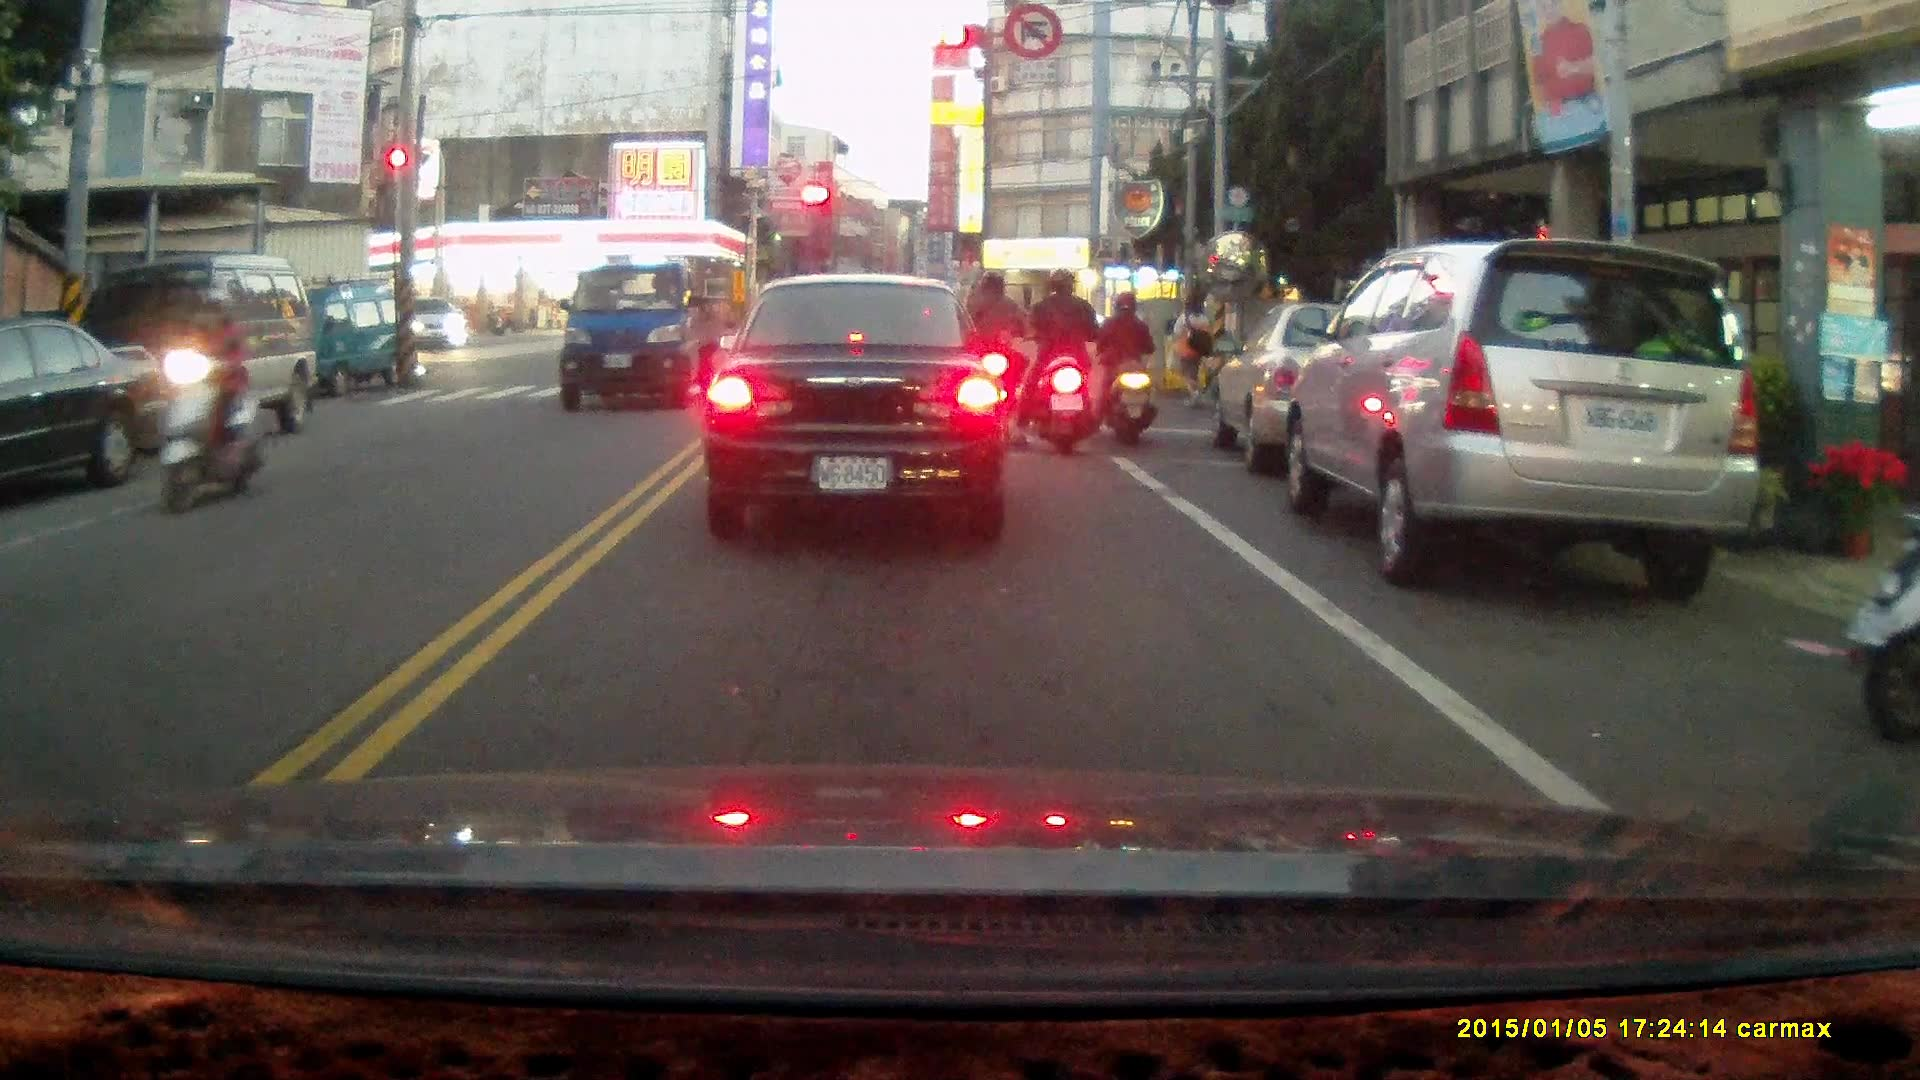pedestrian: (1164, 290, 1220, 411)
rider: (160, 285, 272, 516), (1016, 267, 1106, 457), (960, 267, 1026, 433), (1094, 289, 1159, 446)
vehicle: (1284, 235, 1768, 594), (707, 278, 1018, 535), (76, 244, 318, 443), (1215, 300, 1466, 479), (1, 312, 170, 507), (559, 261, 720, 404), (278, 272, 425, 400)
